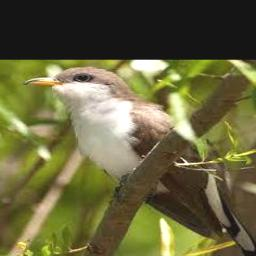Cuckoo: (23, 66, 256, 256)
